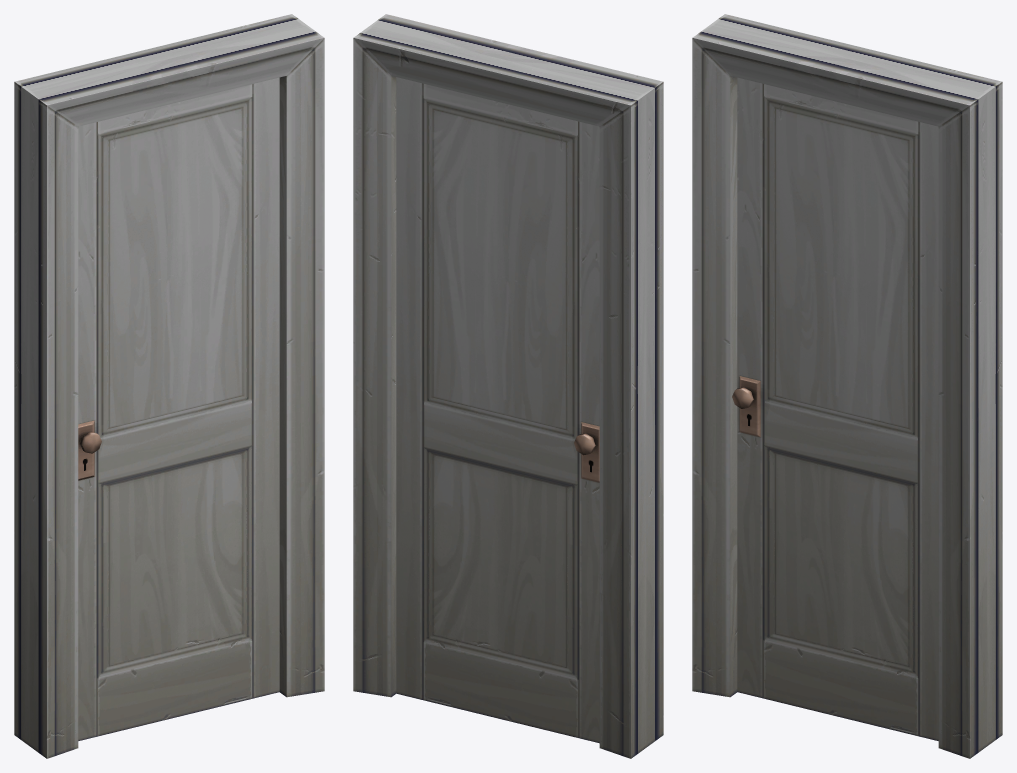
The model's file is door.gltf.
3 views of the same model, side by side, from view 1: azimuth 30°, elevation 25°; view 2: azimuth 150°, elevation 25°; view 3: azimuth 330°, elevation 25° (orthographic).
Visible parts, largest first — view 1: s4studio_mesh_2; view 2: s4studio_mesh_2; view 3: s4studio_mesh_2.
Part boxes in pixels (x1,y1,x2,y2): s4studio_mesh_2: (14,14,324,758); s4studio_mesh_2: (353,14,663,758); s4studio_mesh_2: (692,14,1002,758).
Bounding box in the file's own units: 1 × 2.25 × 0.2133.
Materials: 3 (3 with a texture image).
